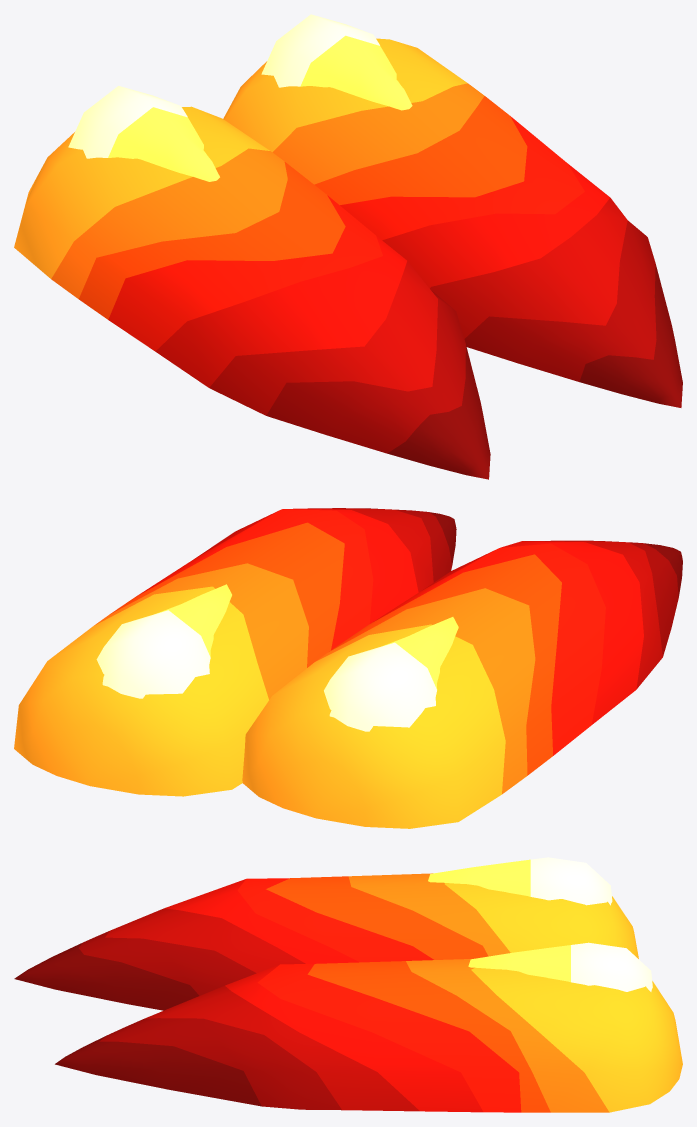
Rendered from shot_pulse_h2r_45.glb.
The picture shows the model from 3 angles, top to bottom: view 1: azimuth 30°, elevation 25°; view 2: azimuth 150°, elevation 25°; view 3: azimuth 270°, elevation 25°; orthographic projection. The views are drawn at different scales.
Visible parts, largest first — view 1: shot_pulse_h2r_45_bolt1, shot_pulse_h2r_45_bolt0, shot_pulse_h2r_45_core1, shot_pulse_h2r_45_core0; view 2: shot_pulse_h2r_45_bolt1, shot_pulse_h2r_45_bolt0, shot_pulse_h2r_45_core1, shot_pulse_h2r_45_core0; view 3: shot_pulse_h2r_45_bolt0, shot_pulse_h2r_45_bolt1, shot_pulse_h2r_45_core0, shot_pulse_h2r_45_core1.
Boxes of the visible parts, bbox=[...] form: shot_pulse_h2r_45_bolt1: bbox=[14, 106, 490, 479]; shot_pulse_h2r_45_bolt0: bbox=[223, 38, 682, 407]; shot_pulse_h2r_45_core1: bbox=[68, 86, 219, 181]; shot_pulse_h2r_45_core0: bbox=[261, 14, 412, 110]; shot_pulse_h2r_45_bolt1: bbox=[242, 540, 682, 828]; shot_pulse_h2r_45_bolt0: bbox=[14, 508, 456, 796]; shot_pulse_h2r_45_core1: bbox=[324, 617, 458, 731]; shot_pulse_h2r_45_core0: bbox=[96, 584, 231, 698]; shot_pulse_h2r_45_bolt0: bbox=[55, 959, 682, 1112]; shot_pulse_h2r_45_bolt1: bbox=[14, 873, 638, 1010]; shot_pulse_h2r_45_core0: bbox=[468, 942, 652, 991]; shot_pulse_h2r_45_core1: bbox=[428, 857, 612, 905].
Size of the model in its own units: 7.54 by 2.24 by 11.71.
